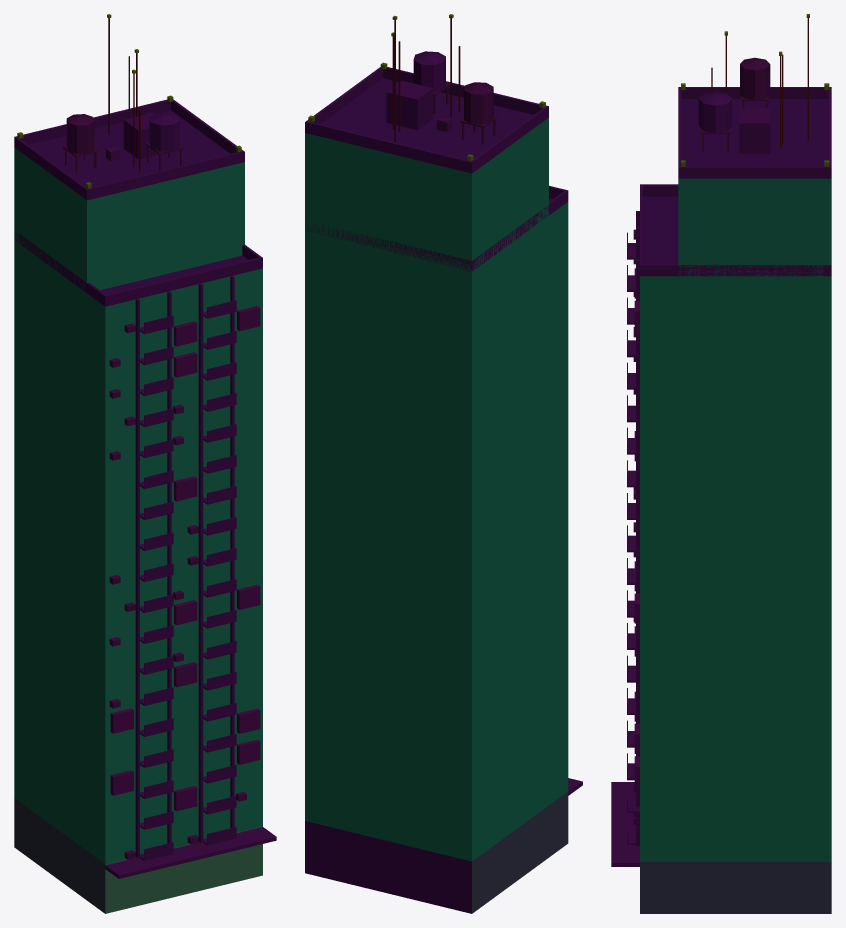
Rendered from slab_j.lod1.glb.
The picture shows the model from 3 angles, left to right: view 1: azimuth 30°, elevation 25°; view 2: azimuth 150°, elevation 25°; view 3: azimuth 270°, elevation 25°; orthographic projection. The views are drawn at different scales.
Parts seen in each view (by area): view 1: slab_j.lod1; view 2: slab_j.lod1; view 3: slab_j.lod1.
Part boxes in pixels (x1=…): slab_j.lod1: x1=14, y1=14, x2=276, y2=913; slab_j.lod1: x1=305, y1=14, x2=582, y2=913; slab_j.lod1: x1=611, y1=14, x2=831, y2=913.
Bounding box in the file's own units: 15.99 × 79.41 × 18.4.
